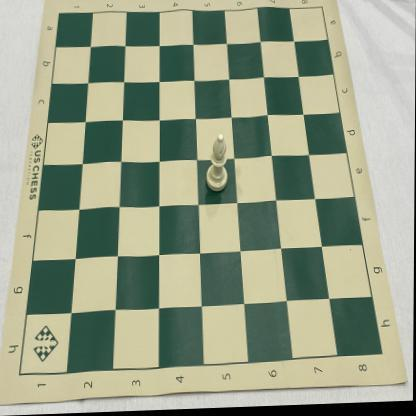white-bishop: (206, 135, 228, 194)
